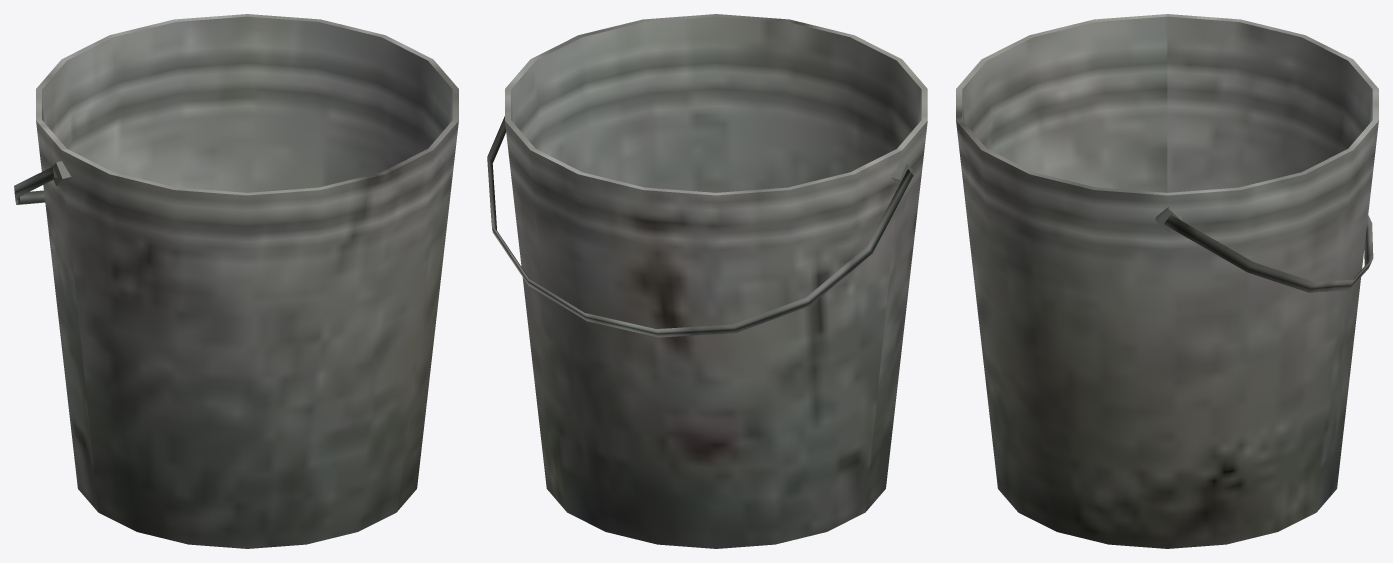
File: metalbucket01a.glb
3 views of the same model, side by side, from view 1: azimuth 30°, elevation 25°; view 2: azimuth 150°, elevation 25°; view 3: azimuth 270°, elevation 25° (orthographic).
Visible parts, largest first — view 1: 0_MetalBucket01a; view 2: 0_MetalBucket01a; view 3: 0_MetalBucket01a.
Part boxes in pixels (box(x1,y1,x2,y2)): 0_MetalBucket01a: box(14, 14, 458, 548); 0_MetalBucket01a: box(487, 14, 927, 548); 0_MetalBucket01a: box(956, 14, 1378, 548).
Bounding box in the file's own units: 0.4478 × 0.4081 × 0.4212.
Materials: 1 (1 with a texture image).
